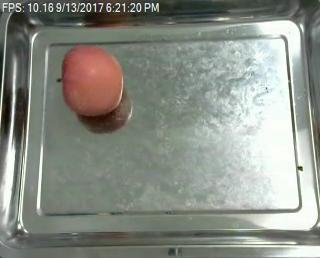apple: (57, 44, 123, 116)
